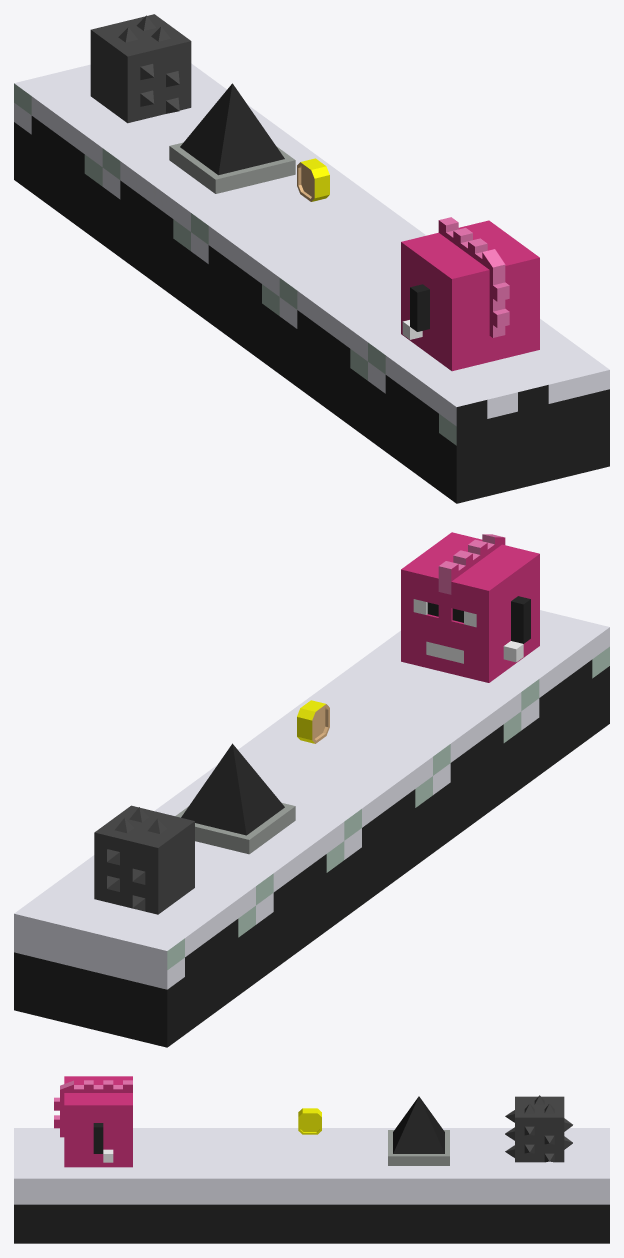
The model's file is blockyJump.fbx.
3 views of the same model, one above another, from view 1: azimuth 30°, elevation 25°; view 2: azimuth 150°, elevation 25°; view 3: azimuth 270°, elevation 25° (orthographic). The views are drawn at different scales.
Visible parts, largest first — view 1: Floor.002, Floor.010, Player1, Floor.004, Floor.001, Floor.003, Cube, Obstacle1, Coin; view 2: Floor.004, Floor.001, Floor.010, Player1, Floor.003, Floor.002, Cube, Obstacle1, Coin; view 3: Floor.001, Floor.010, Floor.004, Floor.003, Floor.002, Player1, Cube, Obstacle1, Coin.
Part boxes in pixels (x1=…): Floor.002: x1=368, y1=319, x2=609, y2=503; Floor.010: x1=191, y1=175, x2=425, y2=373; Player1: x1=401, y1=217, x2=539, y2=371; Floor.004: x1=14, y1=63, x2=255, y2=244; Floor.001: x1=279, y1=248, x2=400, y2=438; Floor.003: x1=102, y1=110, x2=343, y2=308; Cube: x1=90, y1=14, x2=191, y2=123; Obstacle1: x1=169, y1=83, x2=295, y2=193; Coin: x1=297, y1=158, x2=329, y2=201; Floor.004: x1=14, y1=855, x2=255, y2=1047; Floor.001: x1=280, y1=654, x2=521, y2=852; Floor.010: x1=191, y1=719, x2=432, y2=917; Player1: x1=401, y1=532, x2=539, y2=682; Floor.003: x1=154, y1=784, x2=344, y2=982; Floor.002: x1=368, y1=610, x2=609, y2=788; Cube: x1=94, y1=805, x2=194, y2=914; Obstacle1: x1=175, y1=743, x2=295, y2=854; Coin: x1=297, y1=700, x2=329, y2=743; Floor.001: x1=133, y1=1128, x2=252, y2=1243; Floor.010: x1=252, y1=1128, x2=371, y2=1243; Floor.004: x1=490, y1=1128, x2=609, y2=1243; Floor.003: x1=371, y1=1128, x2=490, y2=1243; Floor.002: x1=14, y1=1128, x2=133, y2=1243; Player1: x1=54, y1=1076, x2=132, y2=1167; Cube: x1=505, y1=1095, x2=572, y2=1162; Obstacle1: x1=388, y1=1096, x2=449, y2=1165; Coin: x1=298, y1=1108, x2=321, y2=1134.
Size of the model in its own units: 200 by 252 by 1000.
